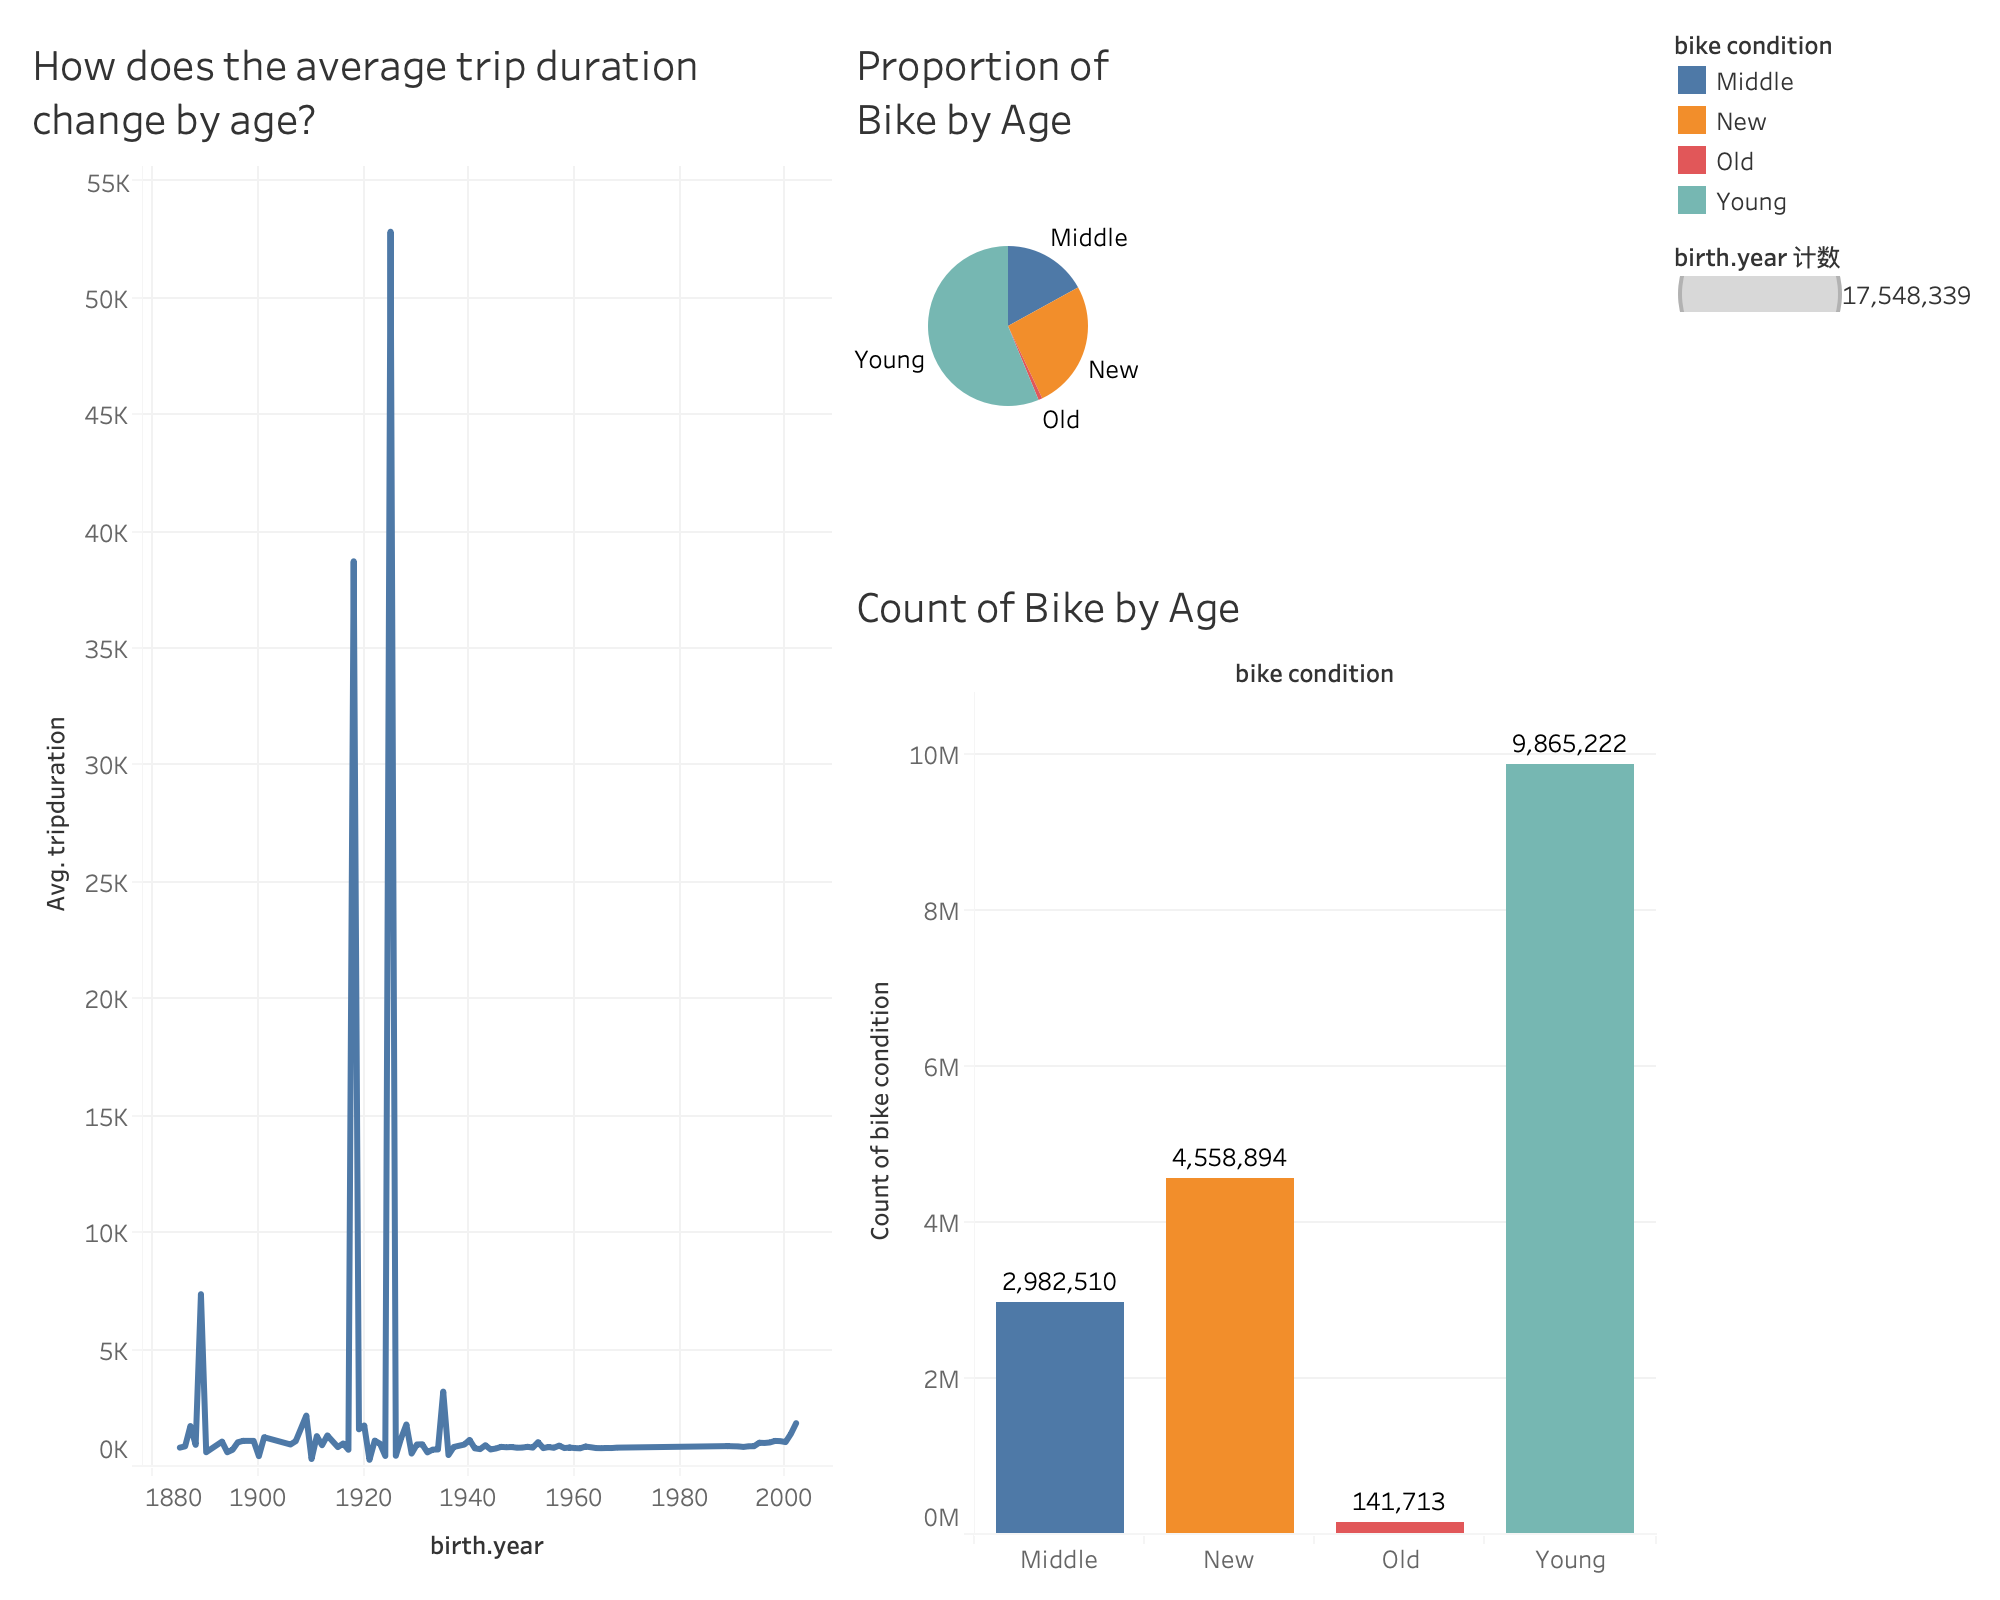

The dashboard page shown, as its layout file describes it:
{"tool":"tableau","page":{"name":"仪表板 3","canvas":[1000,800],"ordinal":2},"visuals":[{"type":"worksheet","title":"工作表 8","mark":"Automatic","rows":["tripduration"],"cols":["birth.year"],"box":[8,8,412,784]},{"type":"worksheet","title":"工作表 14","mark":"Pie","box":[420,8,412,271]},{"type":"legend","title":"工作表 14","param":"[federated.02kz2ur0veorju1ejoxha19djnvy].[none:Calculation_4340203422885724165:n","box":[832,8,160,106]},{"type":"legend","title":"工作表 14","param":"[federated.02kz2ur0veorju1ejoxha19djnvy].[cnt:birth.year:qk]","box":[832,114,160,47]},{"type":"worksheet","title":"工作表 15","mark":"Automatic","rows":["Calculation_4340203422885724165"],"cols":["Calculation_4340203422885724165"],"box":[420,279,412,513]}]}

Visuals, with their boxes in screenshot pixels (x1, y1, x2, y2), scaled from the page's 1000x800 canvas onto the 2000x1600 screenshot:
"工作表 8" worksheet: <box>16,16,840,1584</box>
"工作表 14" worksheet (Pie marks): <box>840,16,1664,558</box>
"工作表 14" legend: <box>1664,16,1984,228</box>
"工作表 14" legend: <box>1664,228,1984,322</box>
"工作表 15" worksheet: <box>840,558,1664,1584</box>
